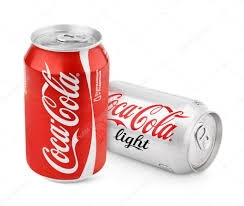can: (22, 25, 107, 184), (108, 78, 226, 177)
